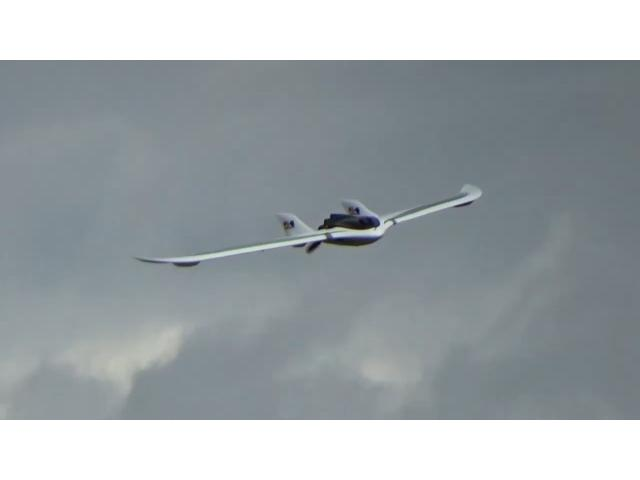Anti-Drone: (131, 182, 483, 268)
